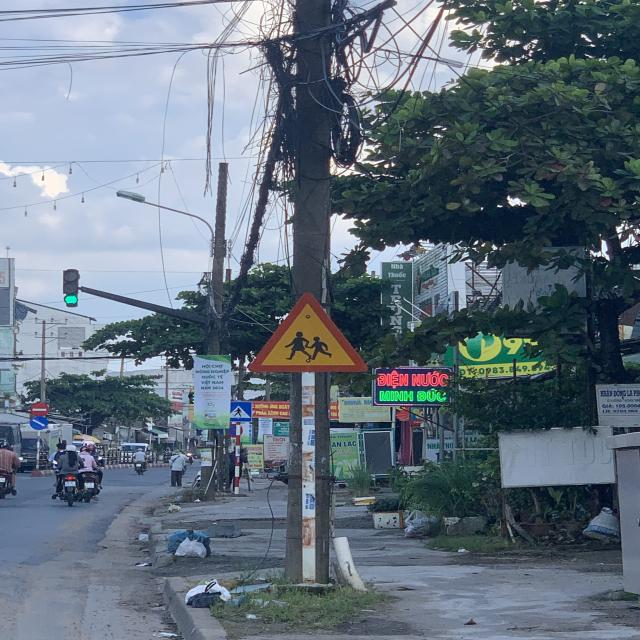Vong_Xuyen: (249, 294, 366, 371)
